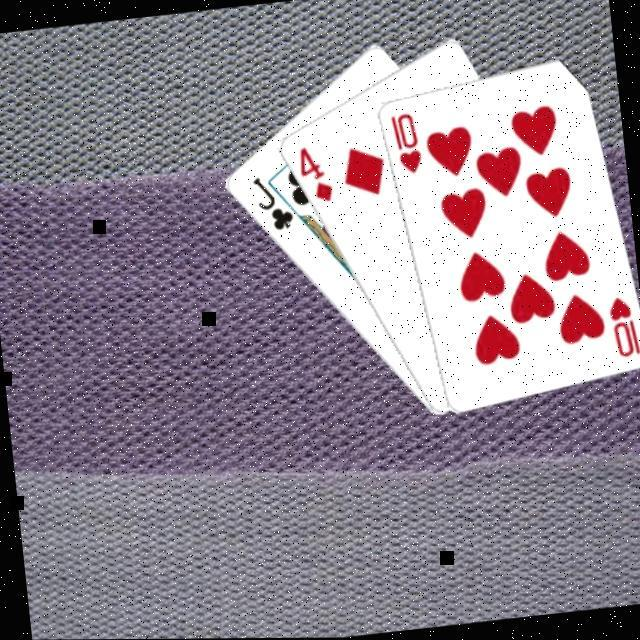10H: (387, 106, 426, 176), (605, 291, 640, 358)
4D: (295, 140, 337, 204)
JC: (249, 168, 299, 234)
